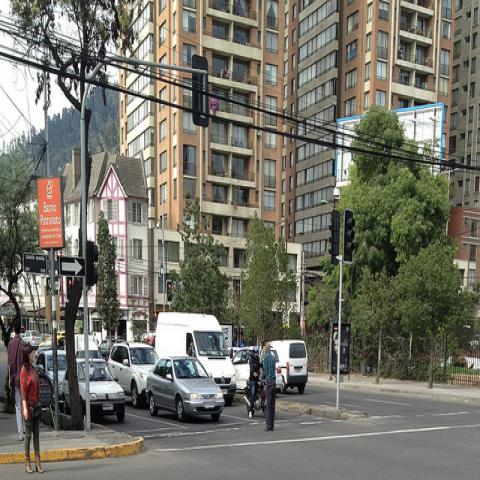car: (156, 308, 234, 396), (147, 359, 224, 426), (61, 360, 125, 429), (108, 339, 158, 402), (230, 348, 284, 393), (271, 340, 308, 394), (34, 348, 67, 403), (22, 329, 43, 348), (10, 327, 26, 340), (56, 331, 66, 346)
motorcycle: (243, 373, 266, 414)
